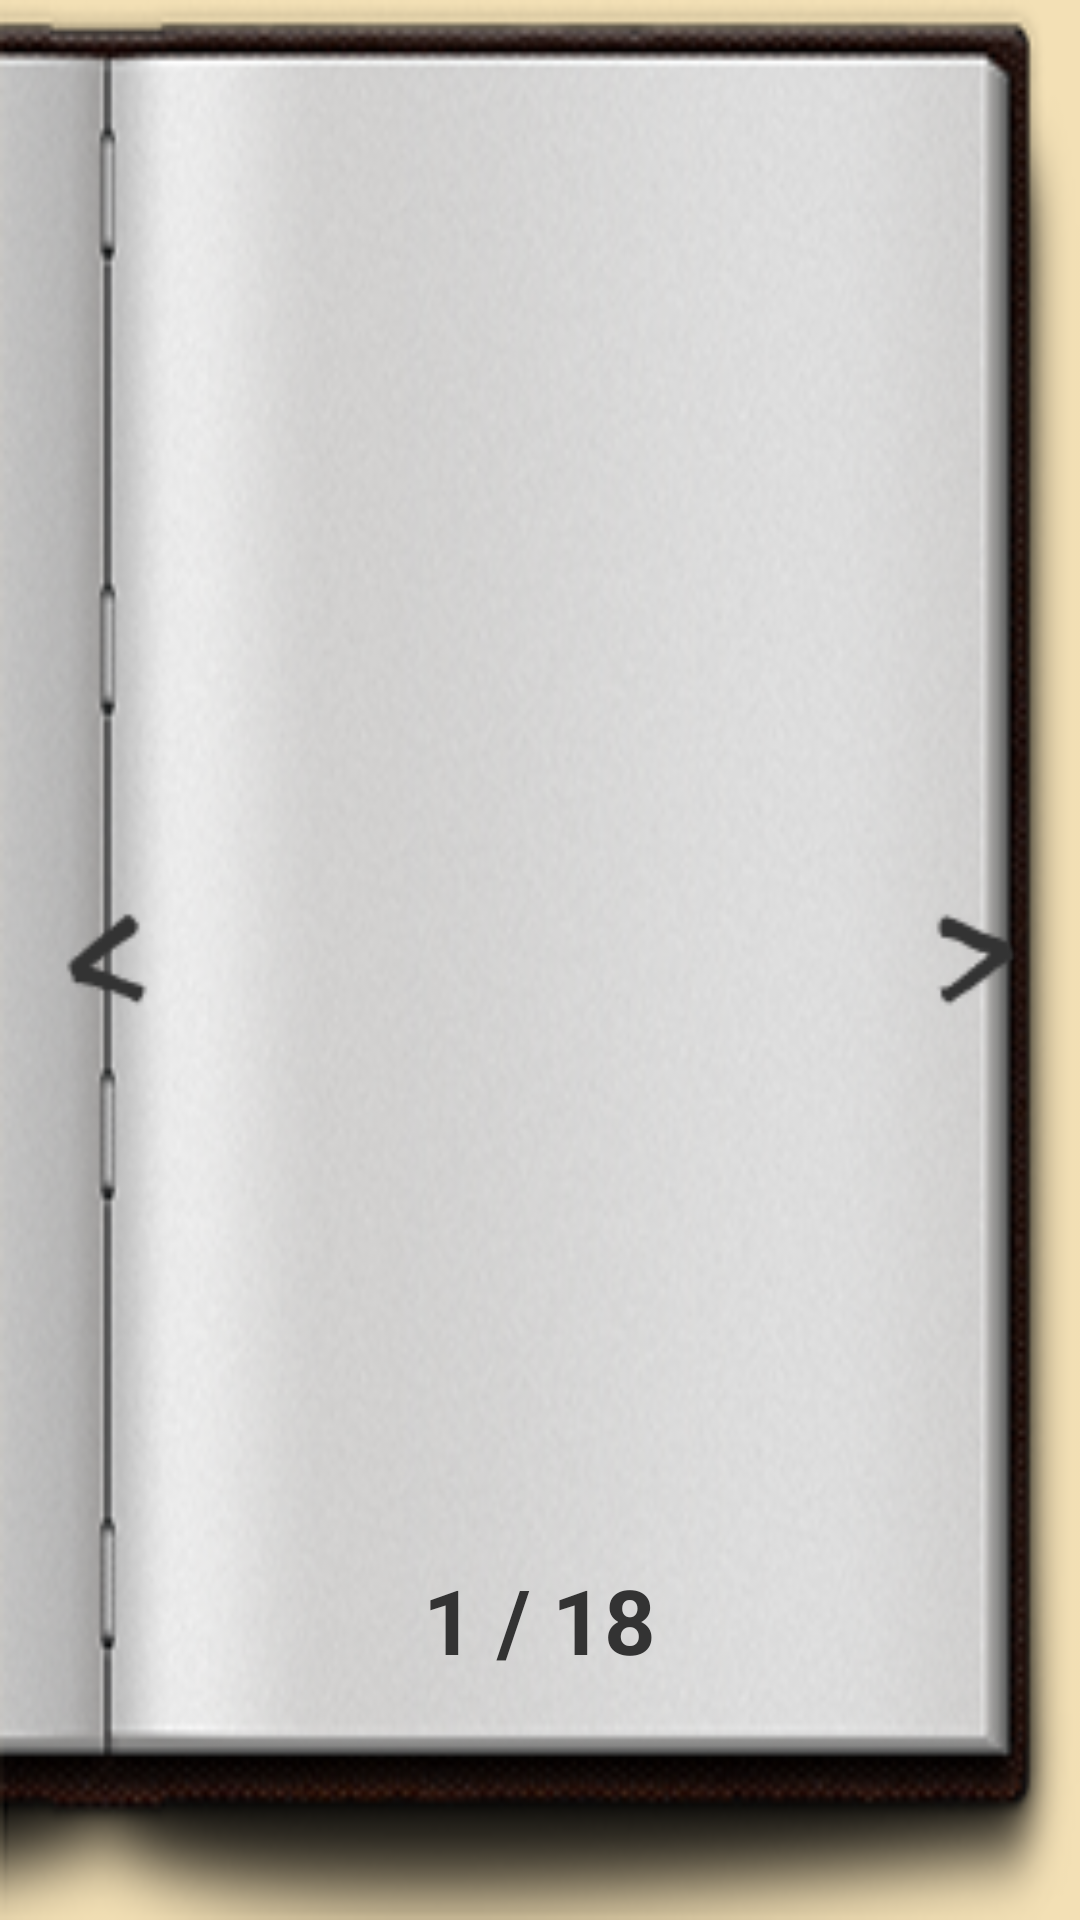

Icons on this 1080w x 1920h Android screen, each with the point to tap as [x,y]:
page pointer left: [105,960]
page pointer right: [975,960]
